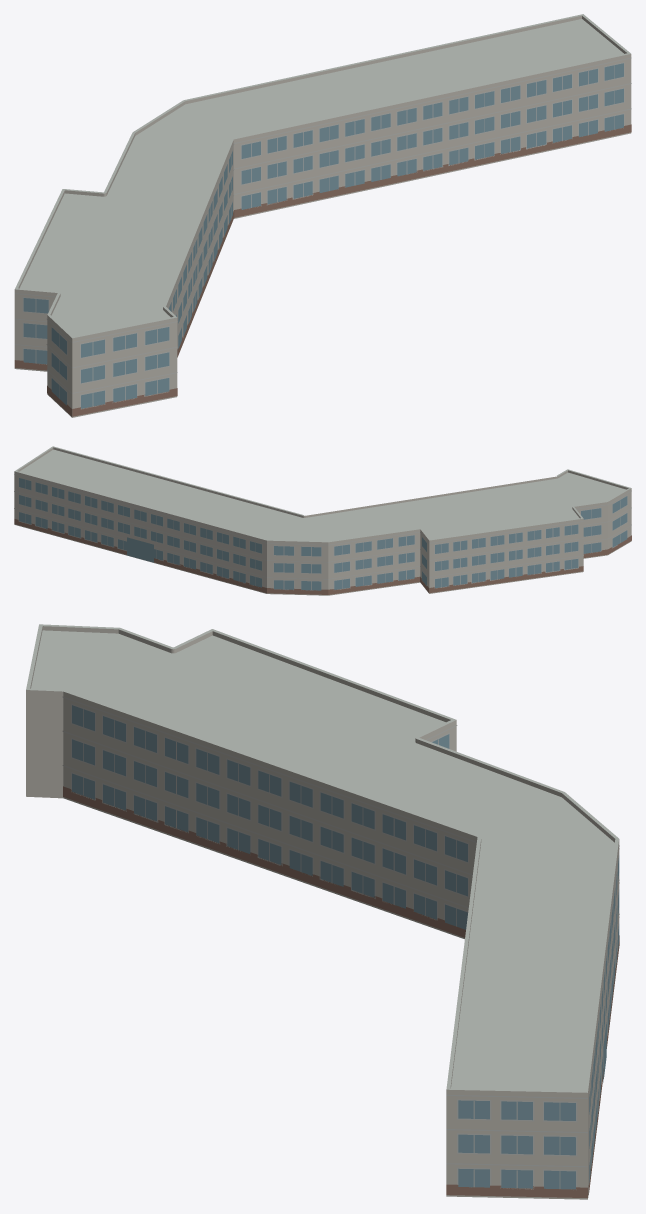
The model's file is public-51a47f02-bc9b-42f4-8c16-b32d5b7e3d78.glb.
3 views of the same model, one above another, from view 1: azimuth 30°, elevation 25°; view 2: azimuth 150°, elevation 25°; view 3: azimuth 270°, elevation 25° (orthographic). The views are drawn at different scales.
Visible parts, largest first — view 1: public-51a47f02-bc9b-42f4-8c16-b32d5b7e3d78; view 2: public-51a47f02-bc9b-42f4-8c16-b32d5b7e3d78; view 3: public-51a47f02-bc9b-42f4-8c16-b32d5b7e3d78.
Part boxes in pixels (x1,y1,x2,y2): public-51a47f02-bc9b-42f4-8c16-b32d5b7e3d78: [14, 14, 631, 417]; public-51a47f02-bc9b-42f4-8c16-b32d5b7e3d78: [14, 446, 631, 595]; public-51a47f02-bc9b-42f4-8c16-b32d5b7e3d78: [26, 624, 619, 1199].
Bounding box in the file's own units: 86.2 × 9.15 × 46.26.
